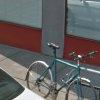Bicycle: (24, 36, 97, 100)
